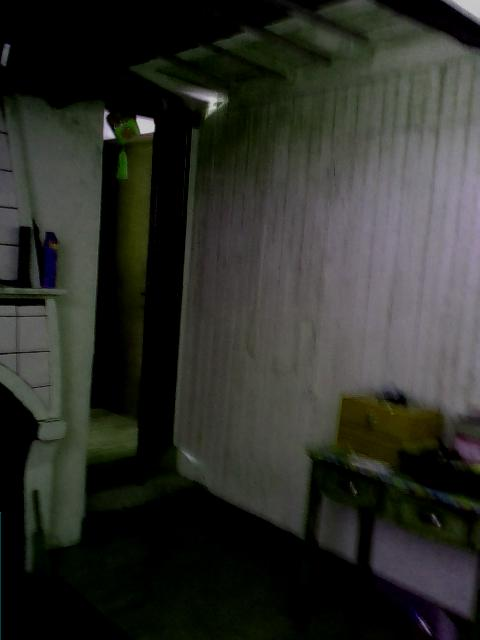semi_door: (88, 95, 190, 486)
